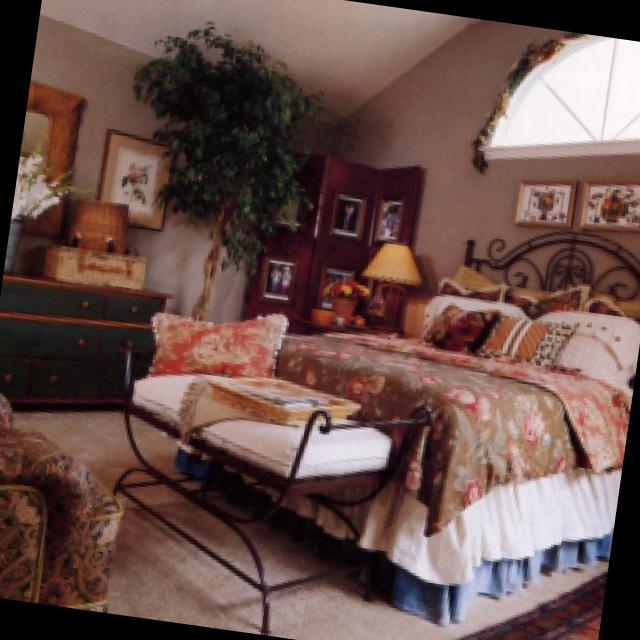2001: (489, 34, 640, 157)
armchair crop: (0, 387, 127, 606)
bed -occluded-: (181, 228, 640, 623)
bench crop: (119, 339, 434, 631)
book case: (208, 372, 359, 424)
bouquet: (11, 137, 97, 272), (330, 274, 370, 320)
box contants: (37, 243, 150, 290), (61, 193, 135, 248)
ceiling beam: (45, 0, 481, 123)
dresser: (0, 266, 177, 404)
dressing screen: (243, 152, 427, 329)
flowers in pot: (14, 142, 86, 219)
lamp crop: (364, 241, 432, 330)
mirror crop: (15, 78, 86, 236)
painting crop: (97, 125, 182, 230), (521, 180, 582, 227), (583, 178, 640, 228), (335, 189, 370, 238), (377, 195, 408, 240)
picture crop: (268, 258, 300, 299)
pillow occluded: (157, 312, 288, 374), (551, 305, 640, 384), (489, 311, 577, 357), (430, 303, 503, 350), (429, 292, 531, 318), (505, 283, 593, 311), (450, 267, 502, 286), (592, 295, 625, 308)
plant -x: (135, 20, 326, 320)
rug -partially obscured-: (458, 569, 608, 640)
